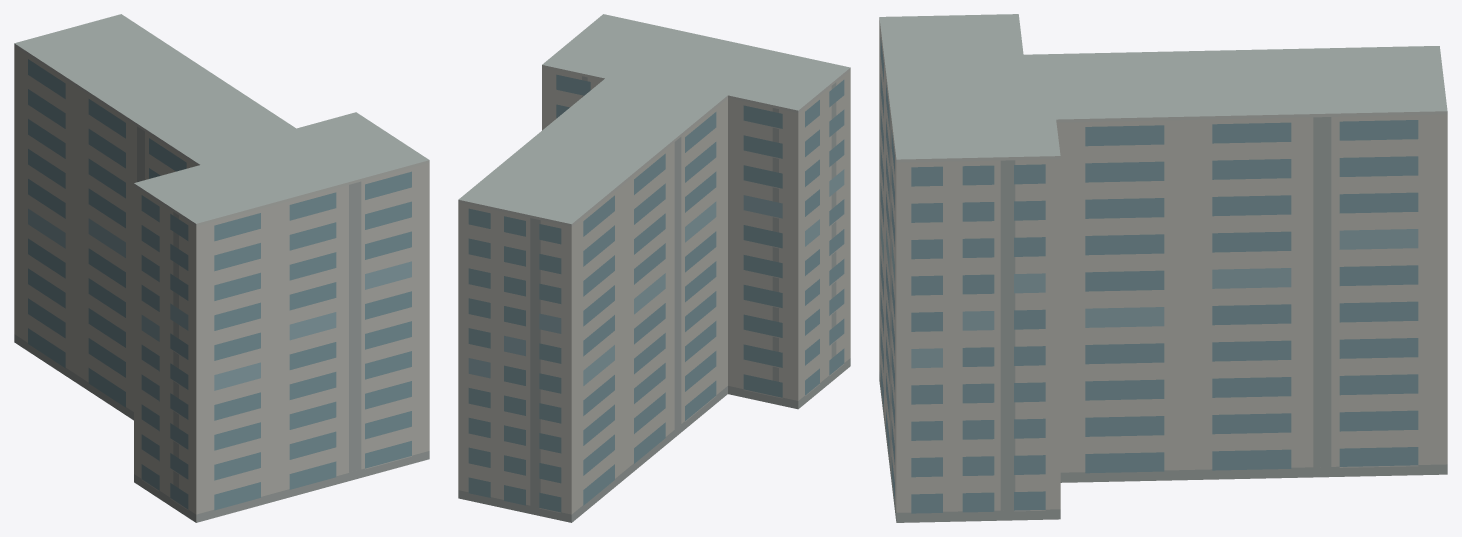
File: residential-ebcfaaf7-003b-417b-a8f9-461f24725e2d.glb
3 views of the same model, side by side, from view 1: azimuth 30°, elevation 25°; view 2: azimuth 150°, elevation 25°; view 3: azimuth 270°, elevation 25° (orthographic). The views are drawn at different scales.
Parts seen in each view (by area): view 1: residential-ebcfaaf7-003b-417b-a8f9-461f24725e2d.tmp; view 2: residential-ebcfaaf7-003b-417b-a8f9-461f24725e2d.tmp; view 3: residential-ebcfaaf7-003b-417b-a8f9-461f24725e2d.tmp.
Part boxes in pixels (box(x1,y1,x2,y2)): residential-ebcfaaf7-003b-417b-a8f9-461f24725e2d.tmp: box(14, 14, 429, 522); residential-ebcfaaf7-003b-417b-a8f9-461f24725e2d.tmp: box(458, 14, 850, 522); residential-ebcfaaf7-003b-417b-a8f9-461f24725e2d.tmp: box(879, 14, 1447, 522).
Bounding box in the file's own units: 23.21 × 27 × 38.27.
